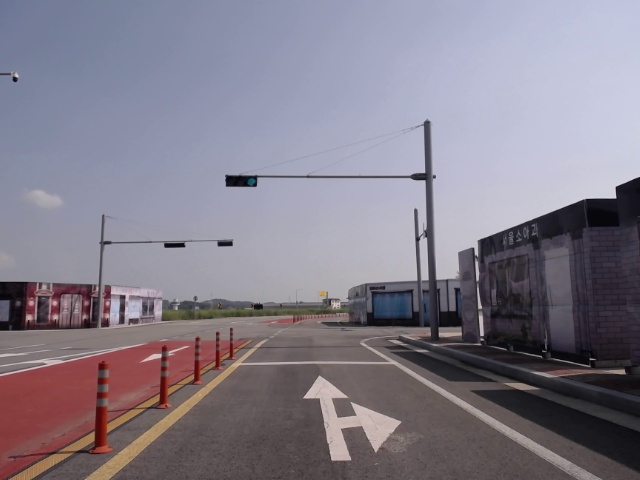green_3: (225, 174, 257, 188)
